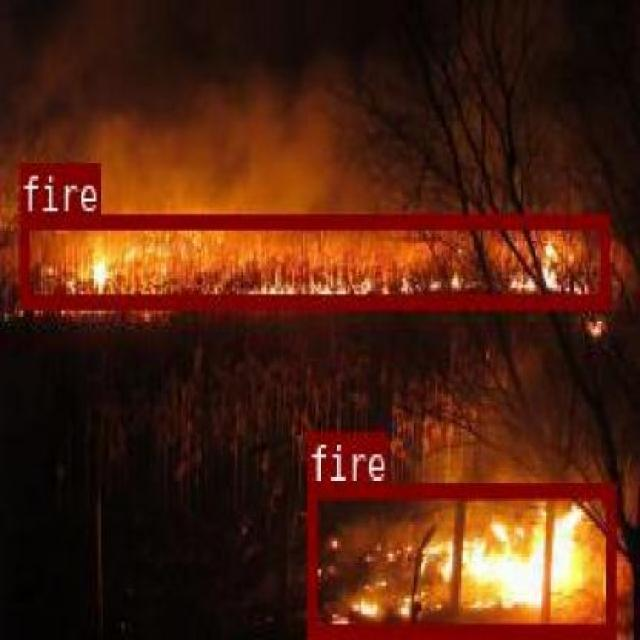fire: (17, 212, 608, 306), (306, 481, 612, 634)
